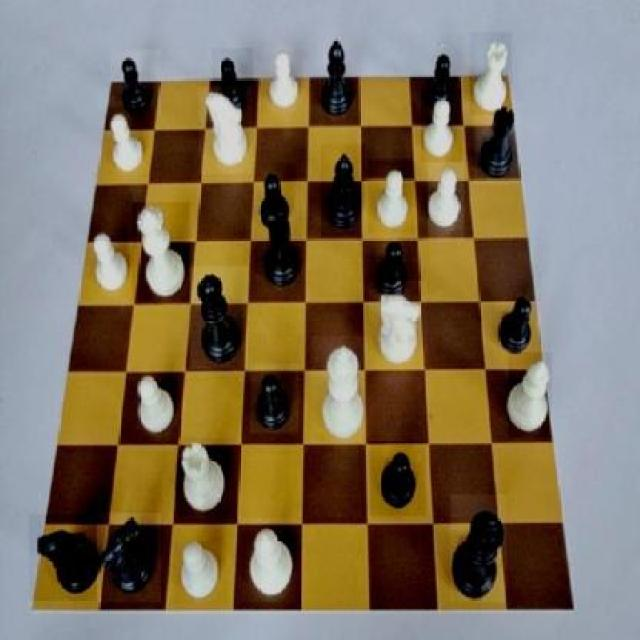bishop: (322, 144, 366, 238), (320, 28, 357, 128)
black-bishop: (451, 496, 507, 602)
black-king: (30, 516, 106, 602), (97, 514, 160, 603)
black-knight: (371, 440, 427, 516), (492, 286, 540, 363), (251, 364, 300, 434), (371, 234, 417, 306), (111, 51, 161, 117), (254, 162, 298, 232), (212, 48, 253, 120), (420, 45, 462, 112)
black-pawn: (191, 266, 248, 369)
black-queen: (258, 209, 308, 292), (476, 102, 522, 185)
black-rook: (240, 517, 296, 601), (508, 352, 552, 438)
white-bishop: (310, 337, 368, 445)
white-king: (371, 282, 428, 369), (198, 88, 252, 174)
white-knight: (174, 526, 228, 604), (83, 220, 132, 300), (101, 108, 154, 177), (369, 160, 417, 234), (126, 371, 177, 437), (263, 45, 307, 117), (420, 91, 462, 163), (428, 162, 464, 239)
white-pawn: (132, 203, 190, 303)
white-queen: (177, 439, 237, 516), (469, 32, 512, 116)
